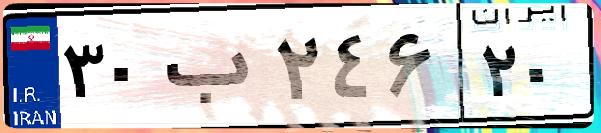0: (525, 38, 570, 115), (110, 28, 158, 98)
2: (270, 28, 330, 110), (475, 38, 525, 113)
3: (57, 26, 110, 100)
4: (330, 28, 385, 110)
6: (385, 28, 445, 110)
ب: (158, 20, 270, 120)
